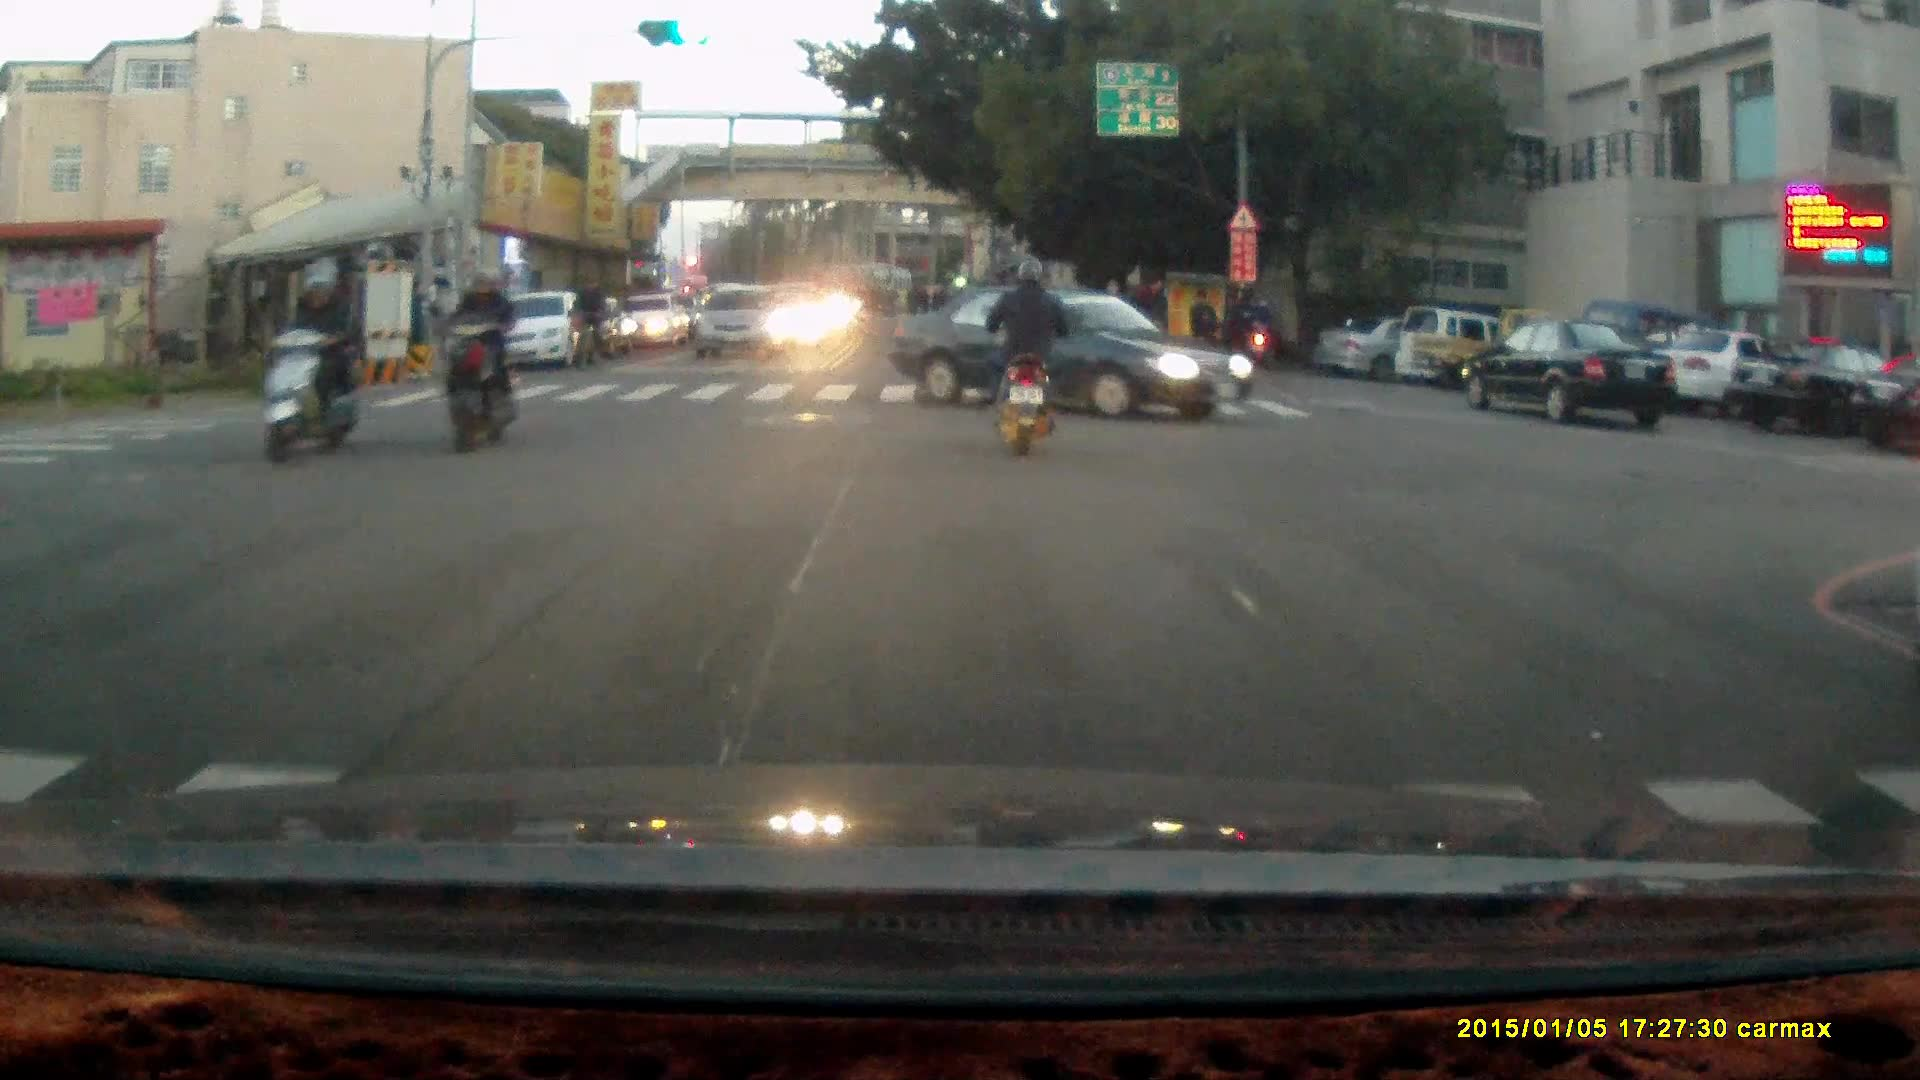pedestrian: (1186, 290, 1219, 384), (1137, 276, 1169, 361), (1221, 289, 1252, 366)
rider: (259, 261, 360, 465), (423, 265, 515, 461), (986, 255, 1073, 453), (566, 276, 606, 372), (1237, 297, 1279, 363)
vehicle: (880, 282, 1257, 428), (1462, 320, 1680, 429), (1637, 329, 1825, 426), (1407, 311, 1616, 398), (1739, 344, 1918, 444), (1313, 313, 1498, 370), (476, 293, 597, 372), (687, 286, 790, 365), (1849, 362, 1920, 457)
